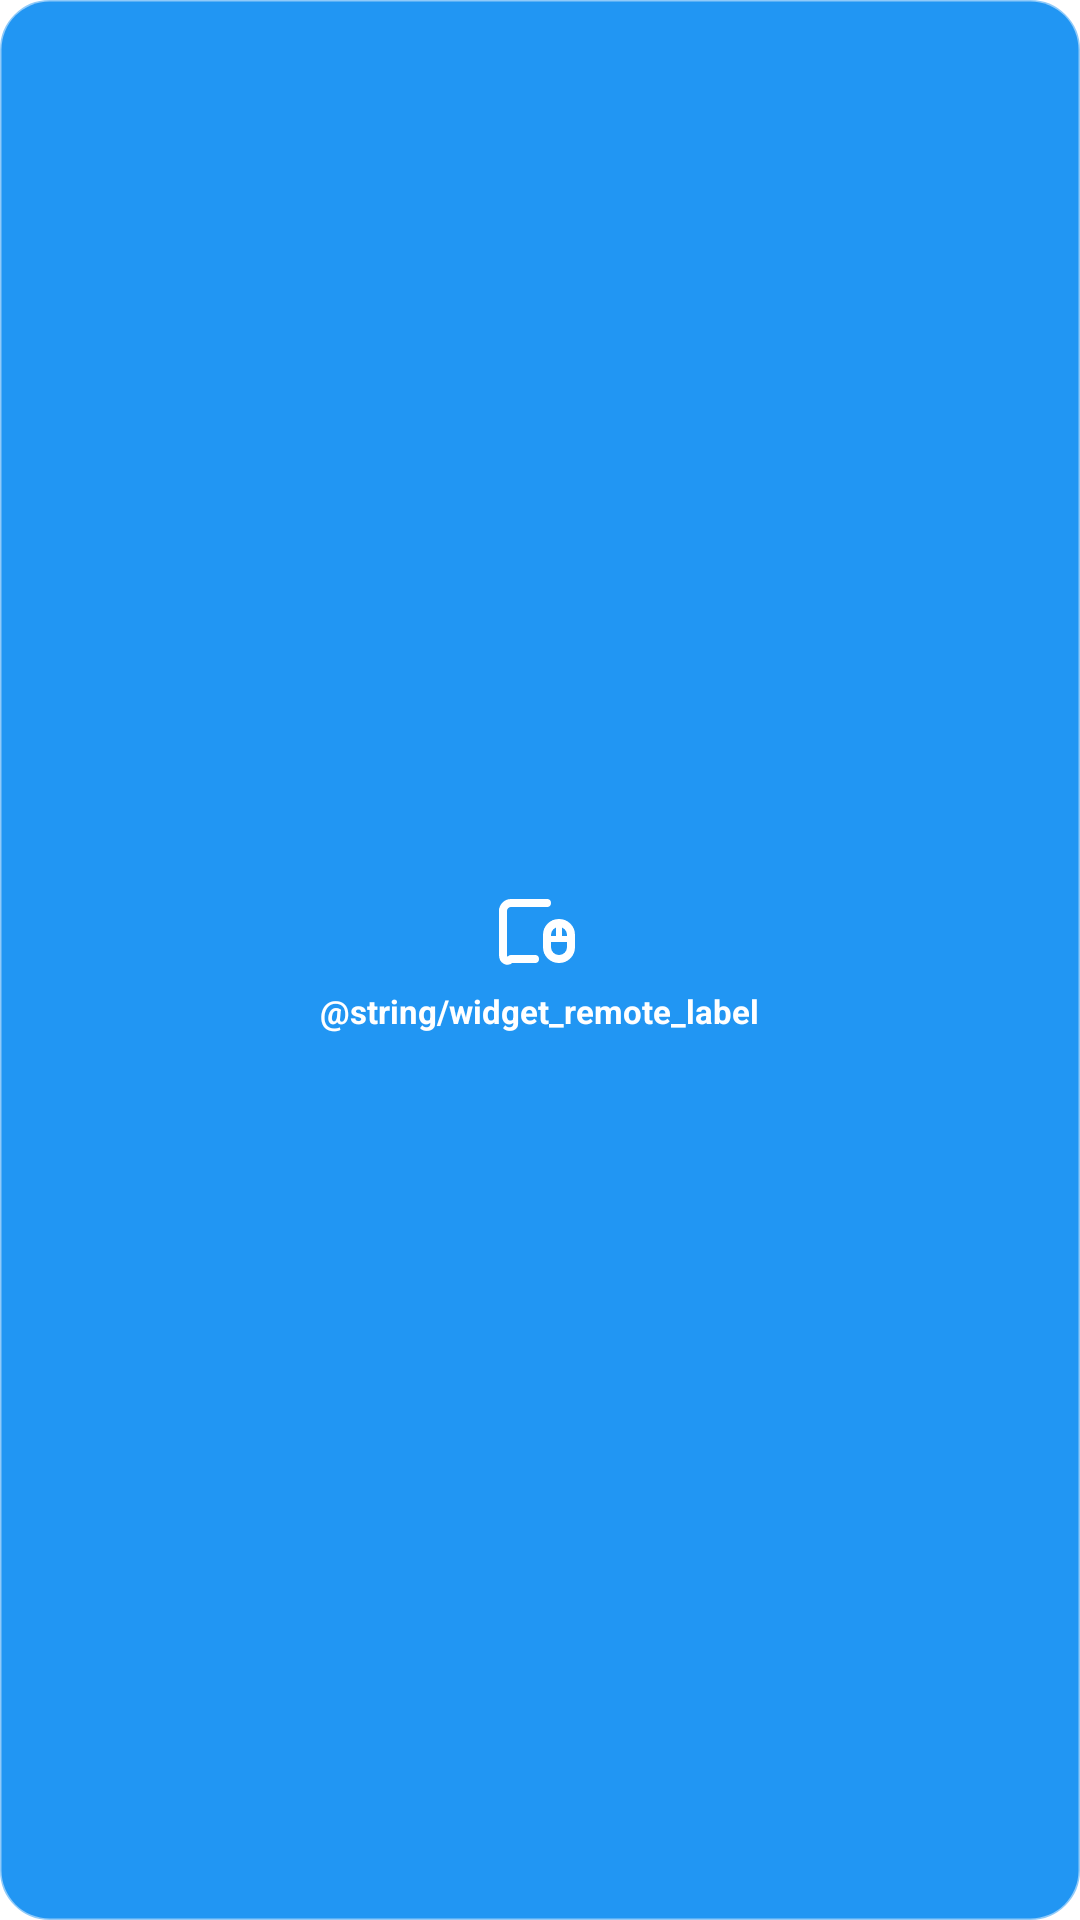

Icon bounding boxes for this 1080 x 1920 phone screenshot, format (x1, y1, x2, y2):
trackpad mouse: (499, 899, 575, 965)
